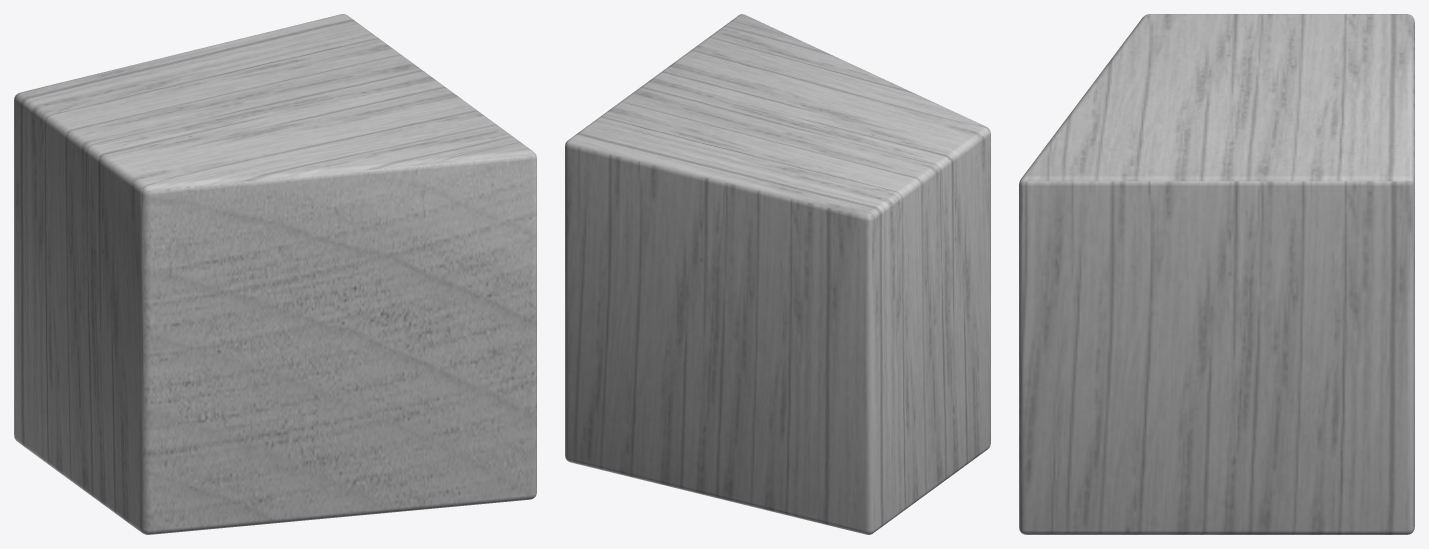
The picture shows the model from 3 angles, left to right: view 1: azimuth 30°, elevation 25°; view 2: azimuth 150°, elevation 25°; view 3: azimuth 270°, elevation 25°; orthographic projection. The views are drawn at different scales.
Parts seen in each view (by area): view 1: Cubo_optimizado_Export 2.001; view 2: Cubo_optimizado_Export 2.001; view 3: Cubo_optimizado_Export 2.001.
Part boxes in pixels (x1,y1,x2,y2): Cubo_optimizado_Export 2.001: (14, 14, 536, 534); Cubo_optimizado_Export 2.001: (565, 14, 990, 534); Cubo_optimizado_Export 2.001: (1019, 14, 1414, 534).
Bounding box in the file's own units: 2 × 2 × 2.
Materials: 1 (1 with a texture image).
